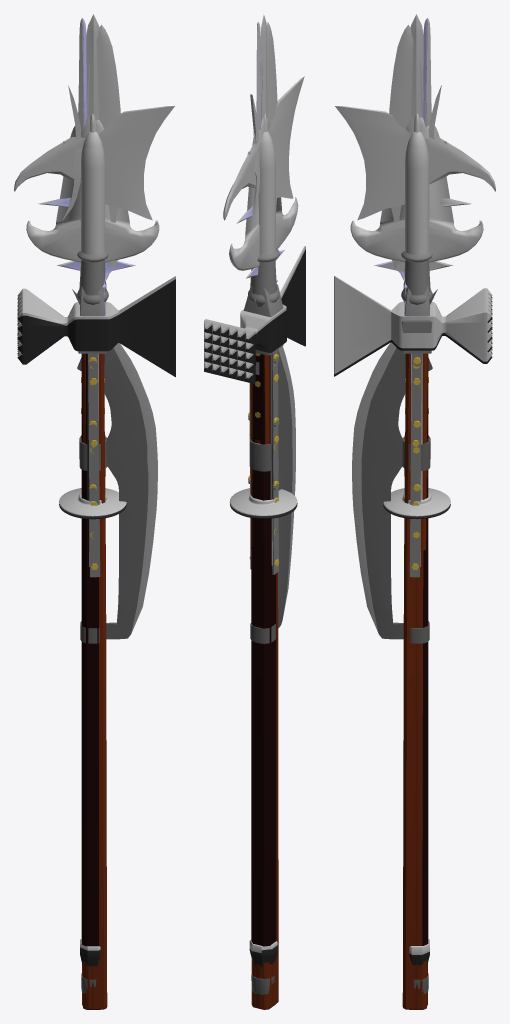
Rendered from PoleArmsNP04.fbx.
3 renders of one model, left to right at view 1: azimuth 90°, elevation 25°; view 2: azimuth 150°, elevation 25°; view 3: azimuth 270°, elevation 25°, orthographic.
Visible parts, largest first — view 1: APoleaxe, StBardiche, StGlaive, StHalberd, StPartisan, StPoleaxe01, BsBill01, SBill; view 2: APoleaxe, StPoleaxe01, StGlaive, StHalberd, StBardiche, StPartisan, SBill, BsBill01; view 3: StGlaive, StPoleaxe01, StHalberd, StBardiche, StPartisan, SBill, APoleaxe, BsBill01.
Boxes of the visible parts, x1,y1,x2,y2 form: APoleaxe: (17, 279, 175, 966); StBardiche: (72, 289, 157, 993); StGlaive: (58, 25, 120, 1009); StHalberd: (14, 14, 174, 1009); StPartisan: (26, 113, 159, 1005); StPoleaxe01: (17, 276, 175, 950); BsBill01: (47, 18, 135, 1009); SBill: (38, 18, 108, 1009); APoleaxe: (204, 249, 305, 967); StPoleaxe01: (204, 246, 305, 953); StGlaive: (243, 22, 283, 1007); StHalberd: (223, 14, 304, 1008); StBardiche: (249, 296, 295, 995); StPartisan: (229, 113, 298, 1006); SBill: (236, 22, 275, 1009); BsBill01: (241, 22, 284, 1008); StGlaive: (389, 25, 451, 1009); StPoleaxe01: (334, 276, 492, 954); StHalberd: (335, 14, 495, 1009); StBardiche: (352, 289, 437, 993); StPartisan: (350, 113, 483, 1007); SBill: (380, 18, 471, 1009); APoleaxe: (334, 296, 492, 965); BsBill01: (374, 18, 427, 1009).
Size of the model in its own units: 0.152 by 2.45 by 0.3621.
